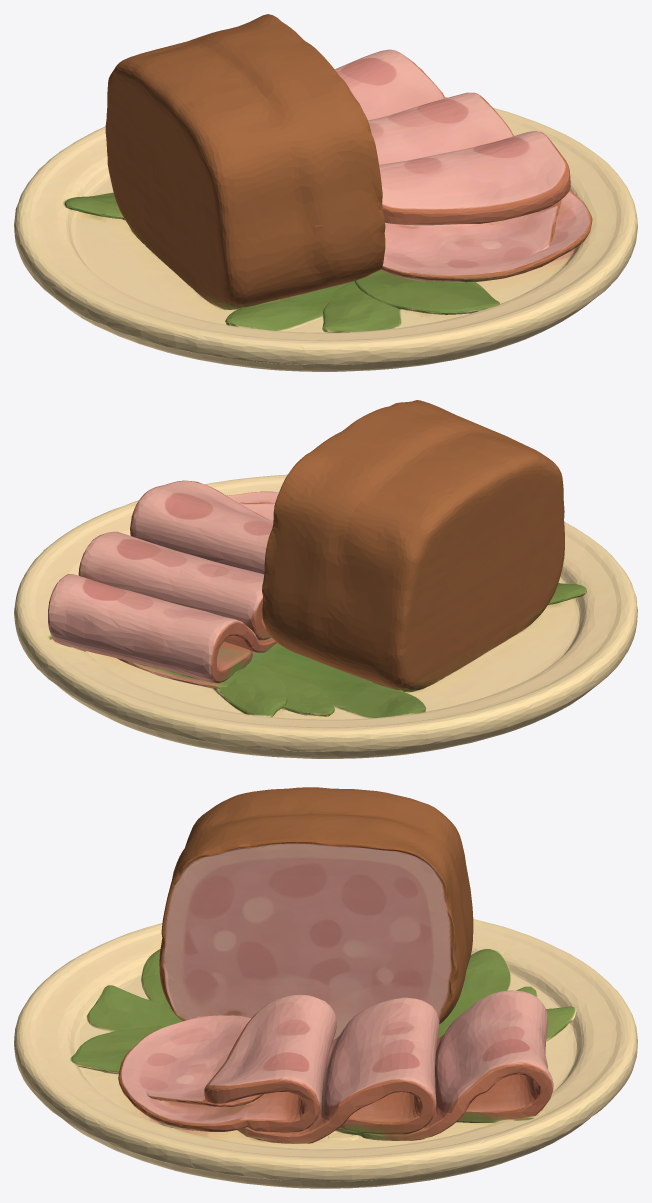
Rendered from meal_2.glb.
3 views of the same model, one above another, from view 1: azimuth 30°, elevation 25°; view 2: azimuth 150°, elevation 25°; view 3: azimuth 270°, elevation 25° (orthographic).
Parts seen in each view (by area): view 1: tripo_node_5db55b14-c06c-4530-8360-f4b13ff3c6e9; view 2: tripo_node_5db55b14-c06c-4530-8360-f4b13ff3c6e9; view 3: tripo_node_5db55b14-c06c-4530-8360-f4b13ff3c6e9.
Part boxes in pixels (left/top/right/bottom): tripo_node_5db55b14-c06c-4530-8360-f4b13ff3c6e9: left=14, top=14, right=637, bottom=371; tripo_node_5db55b14-c06c-4530-8360-f4b13ff3c6e9: left=14, top=400, right=637, bottom=758; tripo_node_5db55b14-c06c-4530-8360-f4b13ff3c6e9: left=14, top=787, right=637, bottom=1188.
Bounding box in the file's own units: 1 × 0.394 × 0.9978.
Materials: 1 (1 with a texture image).
